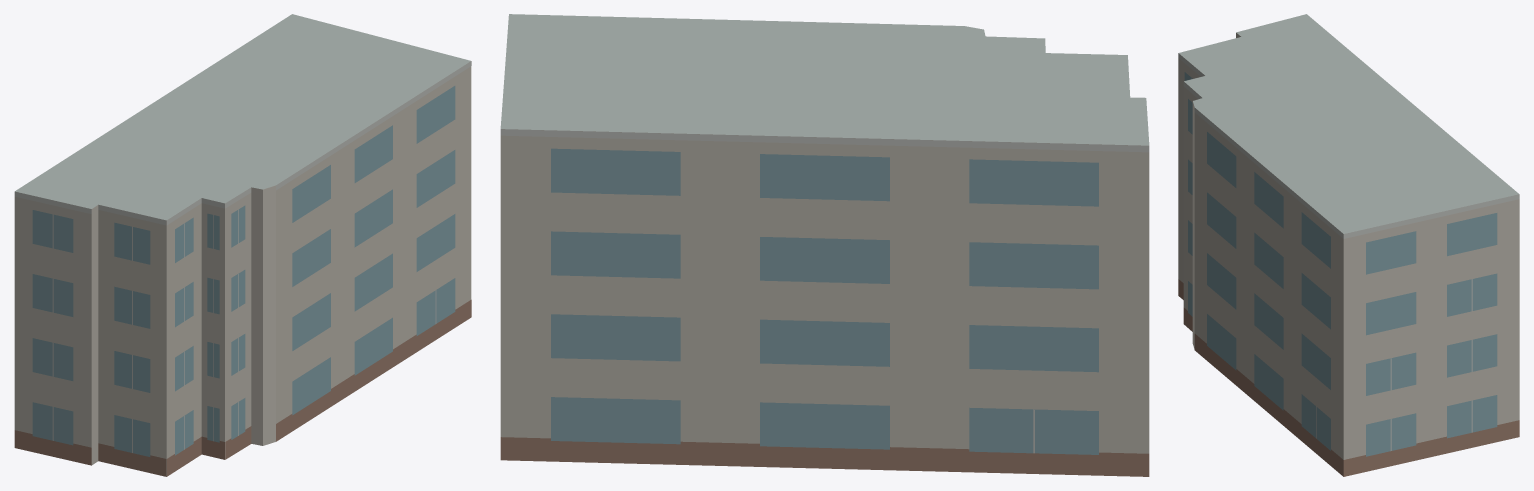
The model's file is survey-upis-32872507.glb.
3 renders of one model, left to right at view 1: azimuth 30°, elevation 25°; view 2: azimuth 150°, elevation 25°; view 3: azimuth 270°, elevation 25°, orthographic. The views are drawn at different scales.
Visible parts, largest first — view 1: survey-upis-32872507.tmp; view 2: survey-upis-32872507.tmp; view 3: survey-upis-32872507.tmp.
Boxes of the visible parts, box(x1,y1,x2,y2) form: survey-upis-32872507.tmp: box(14, 14, 471, 476); survey-upis-32872507.tmp: box(500, 14, 1149, 476); survey-upis-32872507.tmp: box(1178, 14, 1519, 476).
Bounding box in the file's own units: 23.53 × 12.1 × 15.41.
